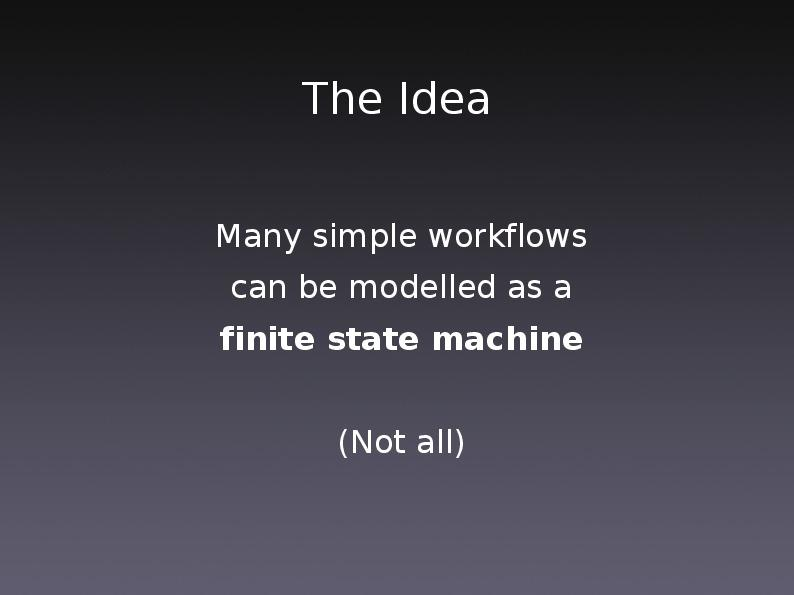paragraph: (207, 210, 622, 478)
title: (298, 78, 504, 129)
